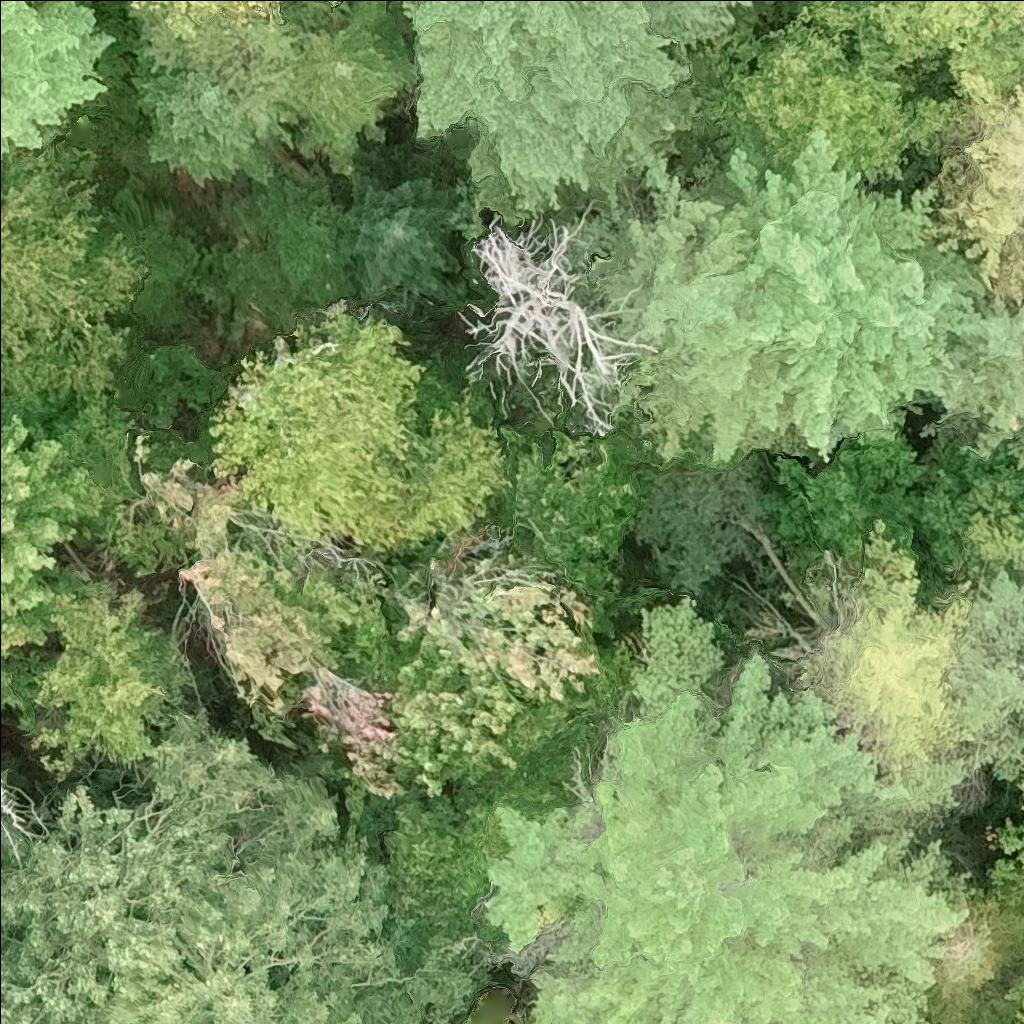crown: (478, 589, 981, 1023), (0, 704, 478, 1023), (720, 125, 989, 464), (133, 432, 399, 752), (395, 0, 759, 229), (209, 296, 515, 555), (588, 147, 791, 467), (350, 548, 607, 800), (697, 9, 972, 196), (458, 207, 661, 433), (800, 518, 971, 771), (0, 123, 149, 403), (35, 564, 202, 774), (0, 395, 107, 711), (221, 162, 365, 334), (333, 137, 468, 316), (283, 0, 415, 173), (933, 66, 1023, 302), (125, 60, 283, 190), (810, 0, 1023, 93), (0, 0, 118, 160), (938, 564, 1023, 785), (927, 290, 1023, 461), (930, 880, 1023, 1023), (120, 0, 298, 46), (0, 763, 50, 864), (986, 822, 1023, 890), (996, 965, 1023, 1023), (326, 0, 332, 1)
